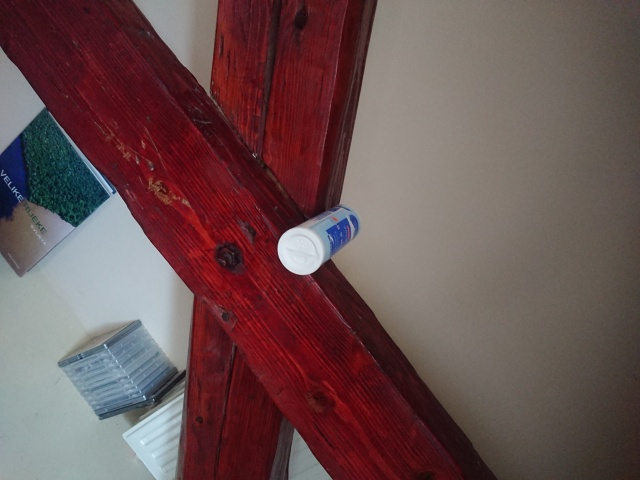Solana Pag Fine Sea Salt 250g: (274, 202, 363, 278)
